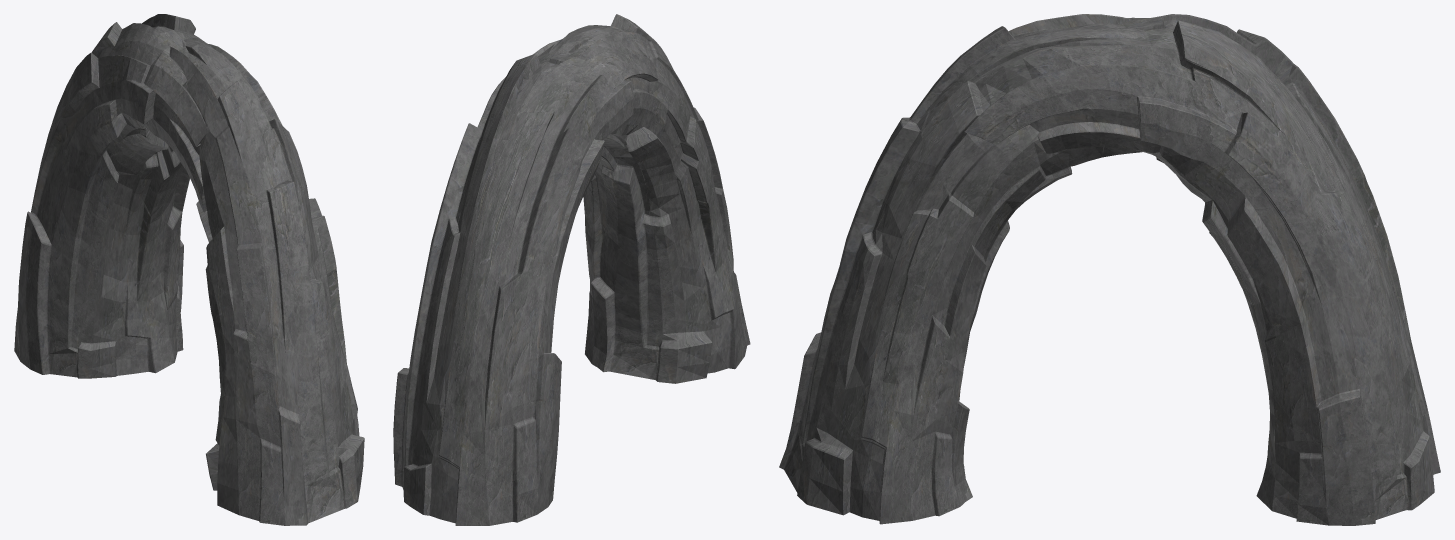
The model's file is Tunnel_Divider.fbx.
3 renders of one model, left to right at view 1: azimuth 30°, elevation 25°; view 2: azimuth 150°, elevation 25°; view 3: azimuth 270°, elevation 25°, orthographic. The views are drawn at different scales.
Visible parts, largest first — view 1: SM_ENV_NATURE_Cave_Tunnel_S_Divider_03.mo; view 2: SM_ENV_NATURE_Cave_Tunnel_S_Divider_03.mo; view 3: SM_ENV_NATURE_Cave_Tunnel_S_Divider_03.mo.
Part boxes in pixels (x1,y1,x2,y2): SM_ENV_NATURE_Cave_Tunnel_S_Divider_03.mo: (14, 14, 364, 525); SM_ENV_NATURE_Cave_Tunnel_S_Divider_03.mo: (393, 14, 750, 525); SM_ENV_NATURE_Cave_Tunnel_S_Divider_03.mo: (779, 14, 1440, 525).
Bounding box in the file's own units: 341 × 836 × 1068.
1 material, 1 textured.
